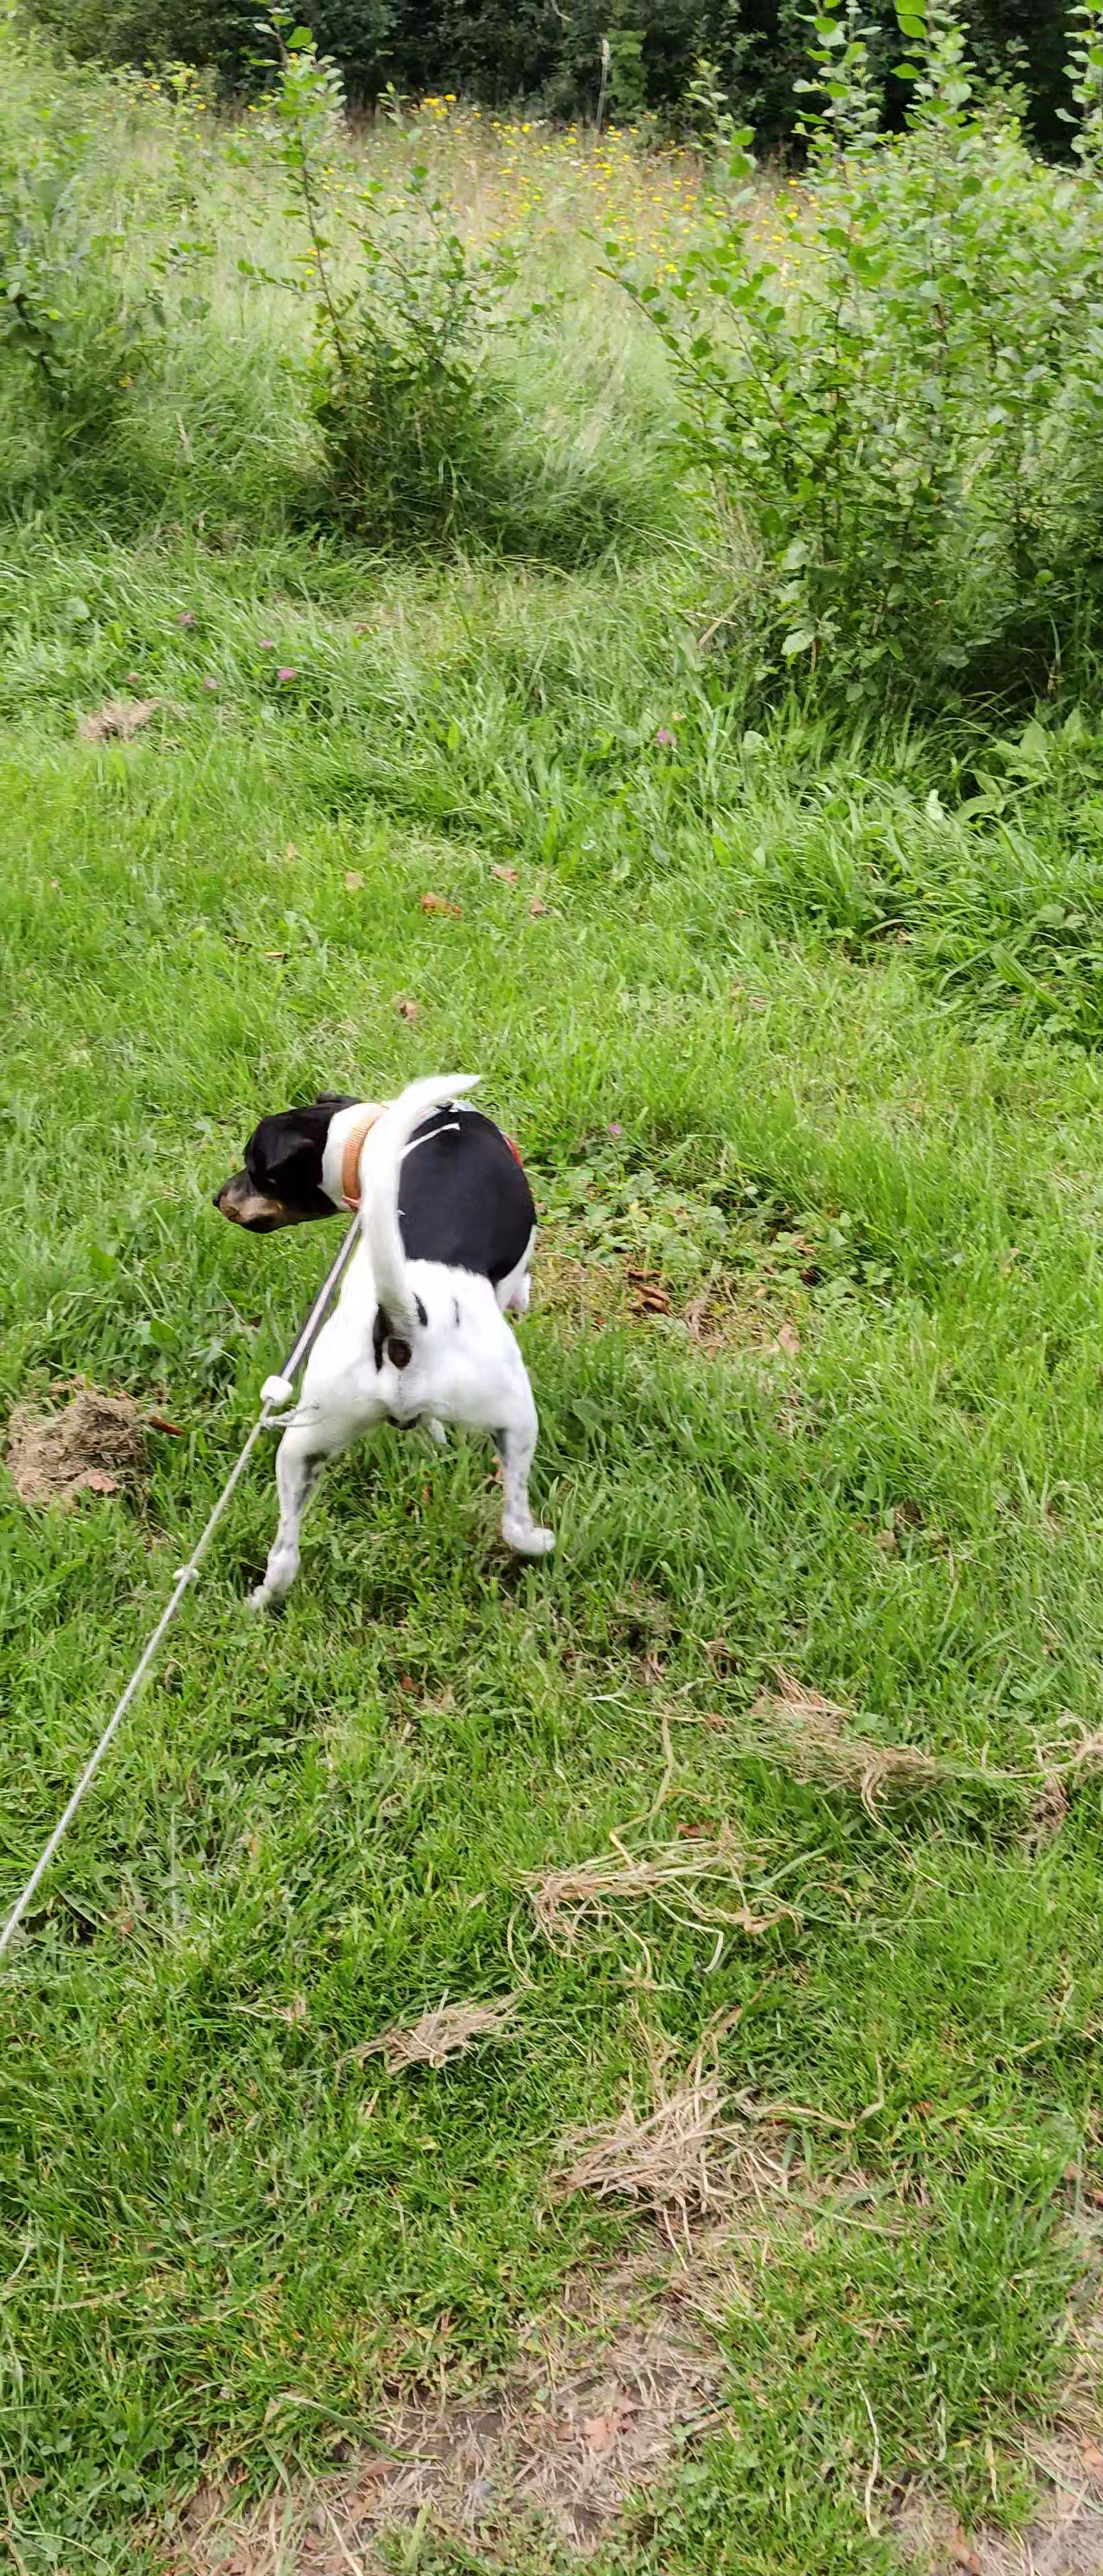Dog: (209, 1050, 584, 1621)
